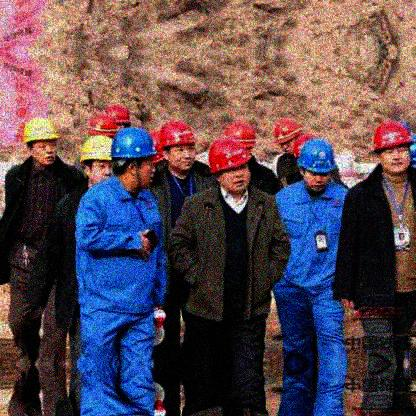helmet: (114, 127, 160, 194), (209, 139, 251, 198), (372, 122, 412, 179), (297, 137, 336, 195), (159, 122, 200, 173), (24, 118, 60, 166), (80, 137, 112, 186)
